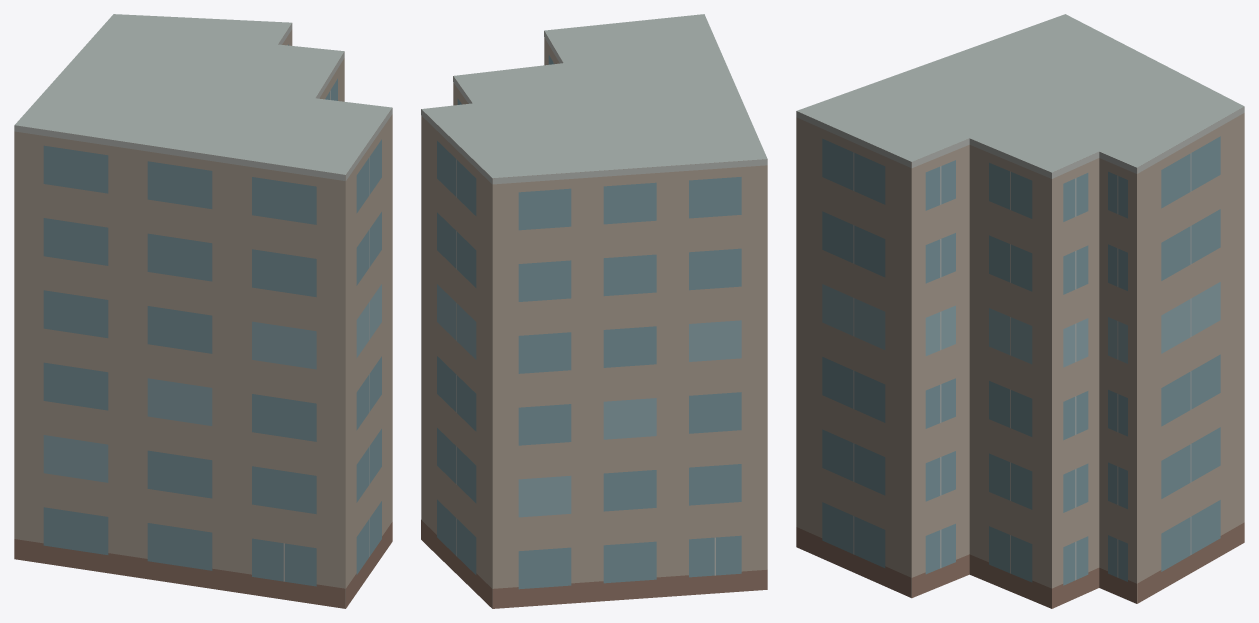
The model's file is survey-upis-32891739.glb.
3 renders of one model, left to right at view 1: azimuth 30°, elevation 25°; view 2: azimuth 150°, elevation 25°; view 3: azimuth 270°, elevation 25°, orthographic.
Visible parts, largest first — view 1: survey-upis-32891739.tmp; view 2: survey-upis-32891739.tmp; view 3: survey-upis-32891739.tmp.
Part boxes in pixels (x1,y1,x2,y2): survey-upis-32891739.tmp: (14, 14, 392, 608); survey-upis-32891739.tmp: (421, 14, 767, 608); survey-upis-32891739.tmp: (796, 14, 1244, 608).
Size of the model in its own units: 13.11 by 16.8 by 15.65.
